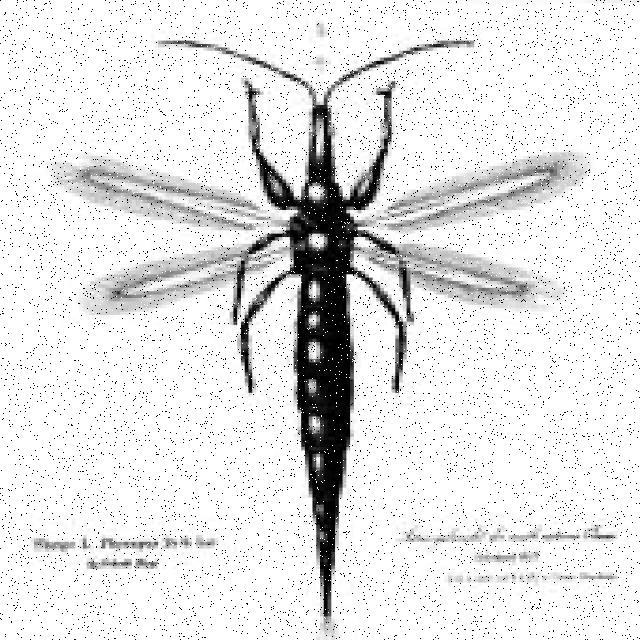Thrips: (187, 47, 421, 596)
